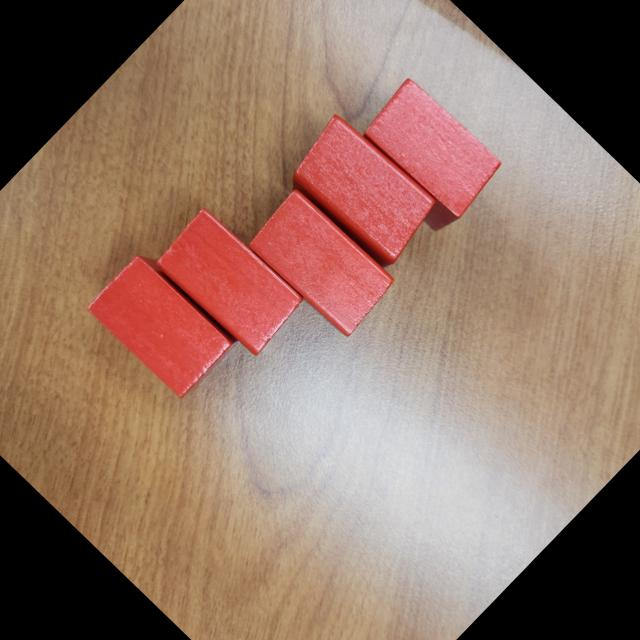red: (280, 110, 446, 274), (344, 76, 509, 240), (244, 185, 402, 342), (152, 204, 309, 360), (84, 249, 239, 403)
